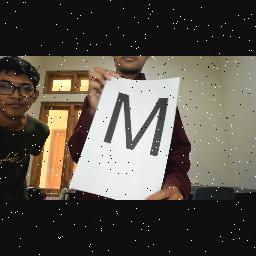m: (101, 89, 171, 159)
